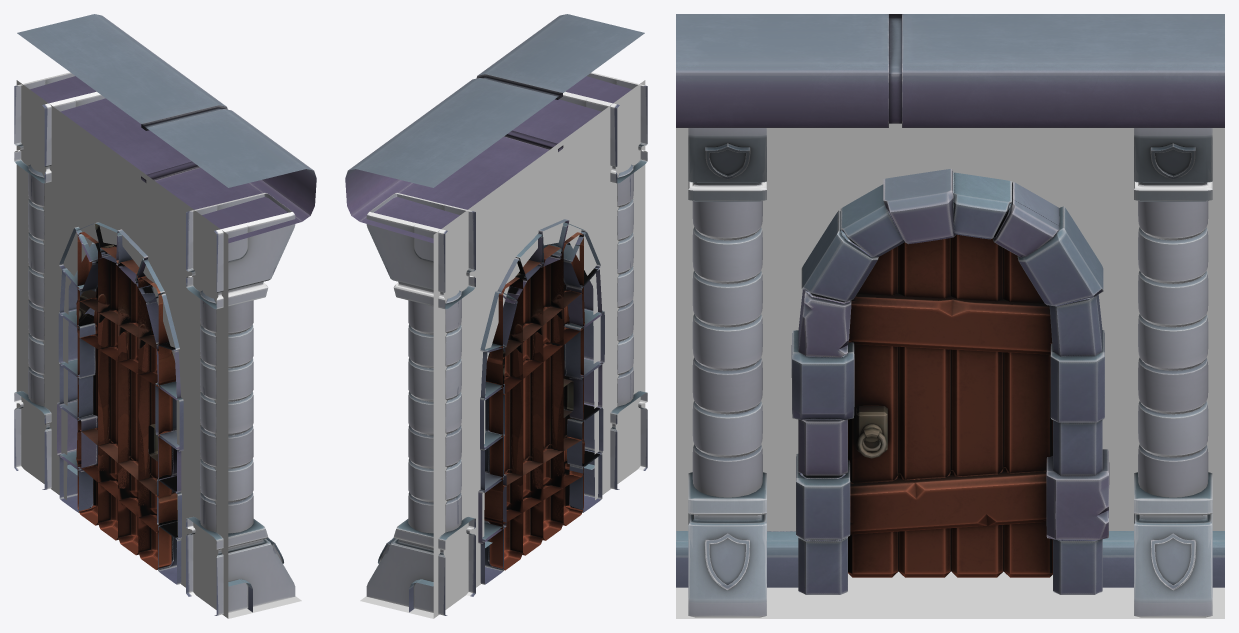
Rendered from Modular_Enviro_Wall_Door.fbx.
3 renders of one model, left to right at view 1: azimuth 30°, elevation 25°; view 2: azimuth 150°, elevation 25°; view 3: azimuth 270°, elevation 25°, orthographic. The views are drawn at different scales.
Parts seen in each view (by area): view 1: Door, Columna.007, Wall.015, Plane.002, Door.001, Plane.003, Cube.026; view 2: Door, Columna.007, Wall.015, Plane.002, Door.001, Plane.003, Cube.026; view 3: Columna.007, Wall.015, Door, Door.001, Plane.002, Plane.003, Cube.026, Wall.005, Plane.004.
Boxes of the visible parts, <box> form: Door: <box>16,80,228,618</box>; Columna.007: <box>14,72,295,615</box>; Wall.015: <box>17,14,316,243</box>; Plane.002: <box>77,232,172,569</box>; Door.001: <box>57,222,183,584</box>; Plane.003: <box>76,297,177,533</box>; Cube.026: <box>228,596,301,618</box>; Door: <box>433,80,645,618</box>; Columna.007: <box>366,72,647,615</box>; Wall.015: <box>345,14,644,243</box>; Plane.002: <box>488,232,583,570</box>; Door.001: <box>478,219,604,584</box>; Plane.003: <box>484,289,584,524</box>; Cube.026: <box>360,596,433,618</box>; Columna.007: <box>688,128,1212,617</box>; Wall.015: <box>676,14,1224,127</box>; Door: <box>676,123,1224,530</box>; Door.001: <box>791,168,1109,594</box>; Plane.002: <box>848,234,1052,577</box>; Plane.003: <box>848,293,1052,534</box>; Cube.026: <box>676,572,1224,618</box>; Wall.005: <box>676,531,1224,587</box>; Plane.004: <box>856,406,887,458</box>.
Size of the model in its own units: 129 by 558 by 497.
